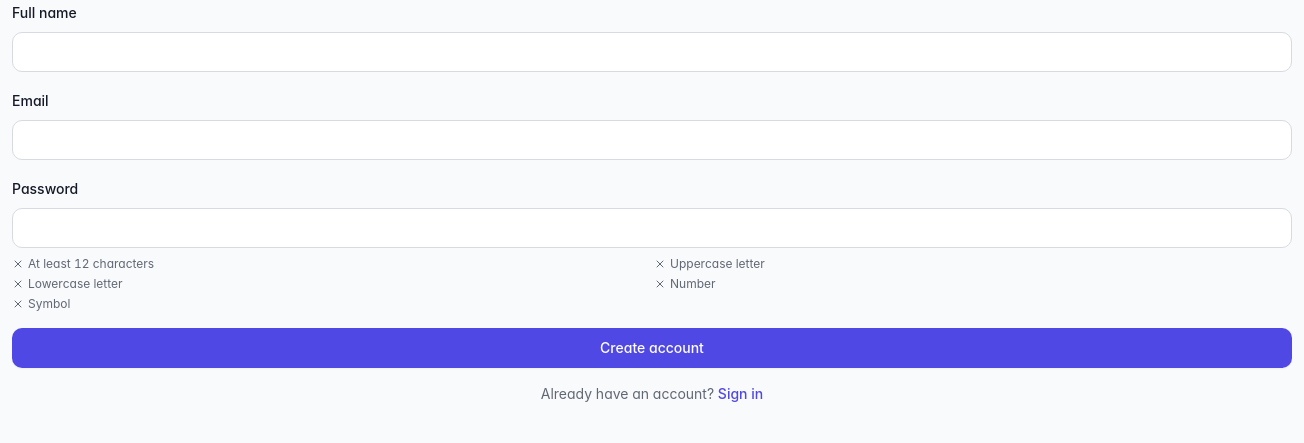
Test: RegisterForm › blocks weak passwords client-side
Type "Asha Rao" into the field labelled "Full name".
click(652, 52); type("Asha Rao")  # box [12,32,1292,72]
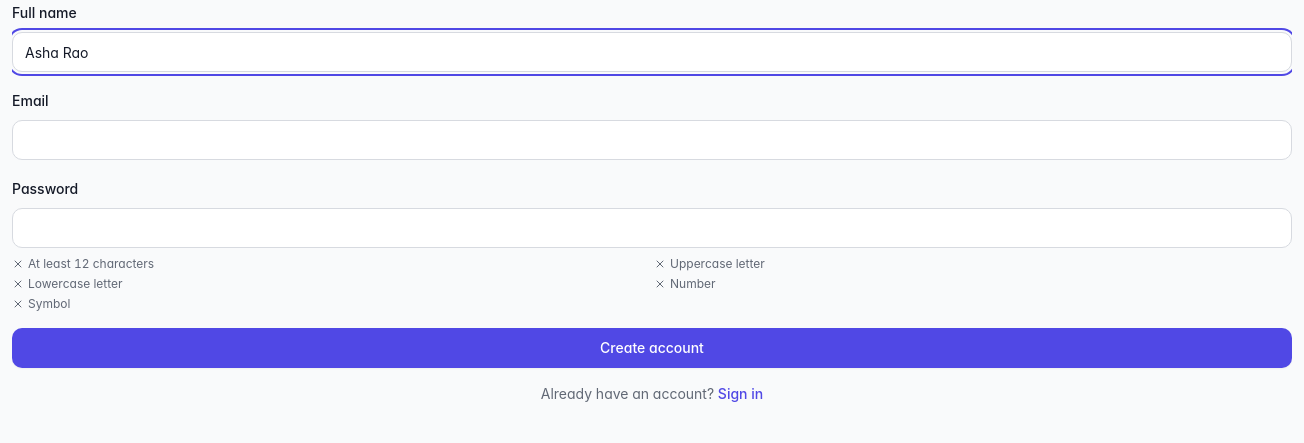
Type "asha@example.com" into the field labelled "Email".
click(652, 140); type("asha@example.com")  # box [12,120,1292,160]
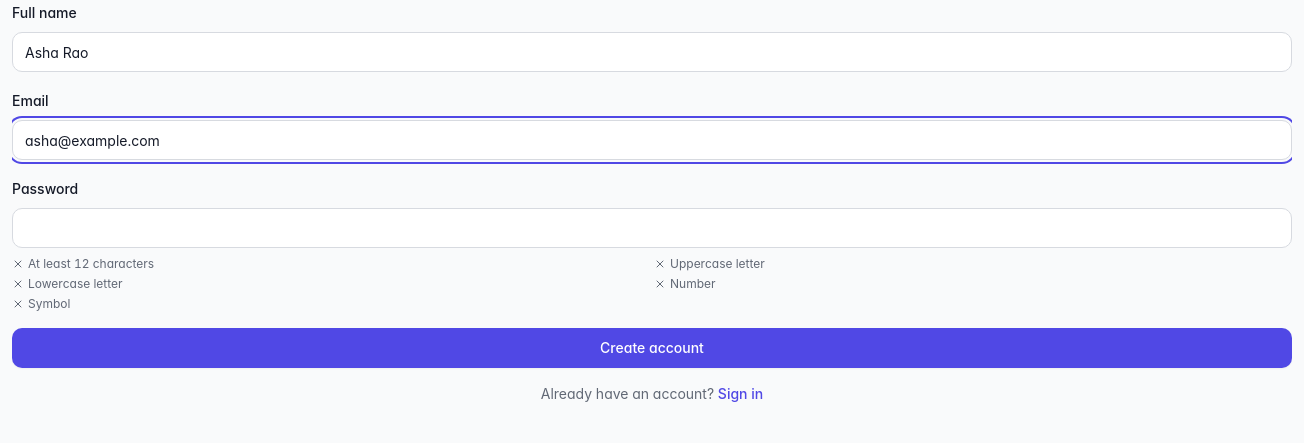
Type "short" into the password field labelled "Password".
click(652, 228); type("short")  # box [12,208,1292,248]
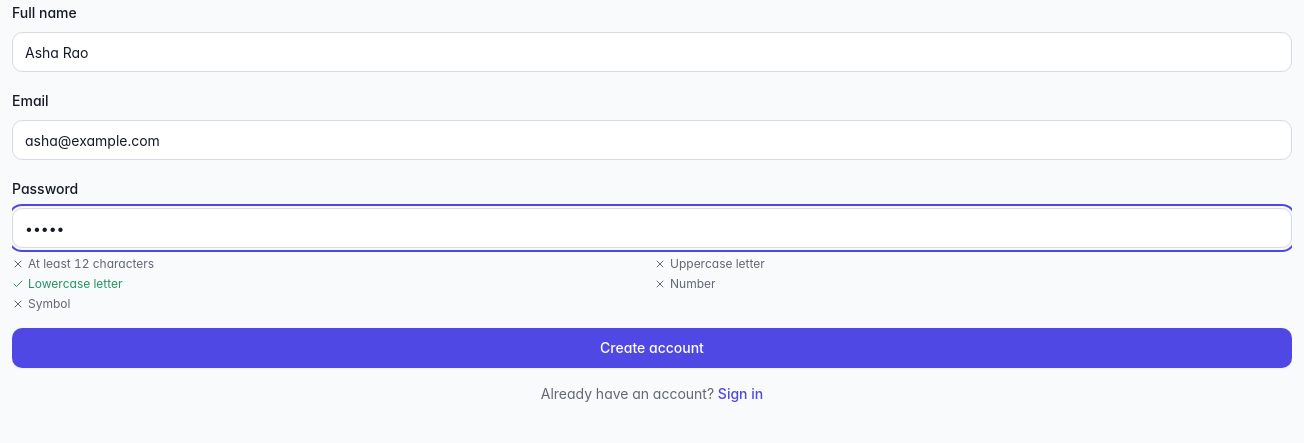
Click the button "Create account".
click(652, 348)  # box [12,328,1292,368]
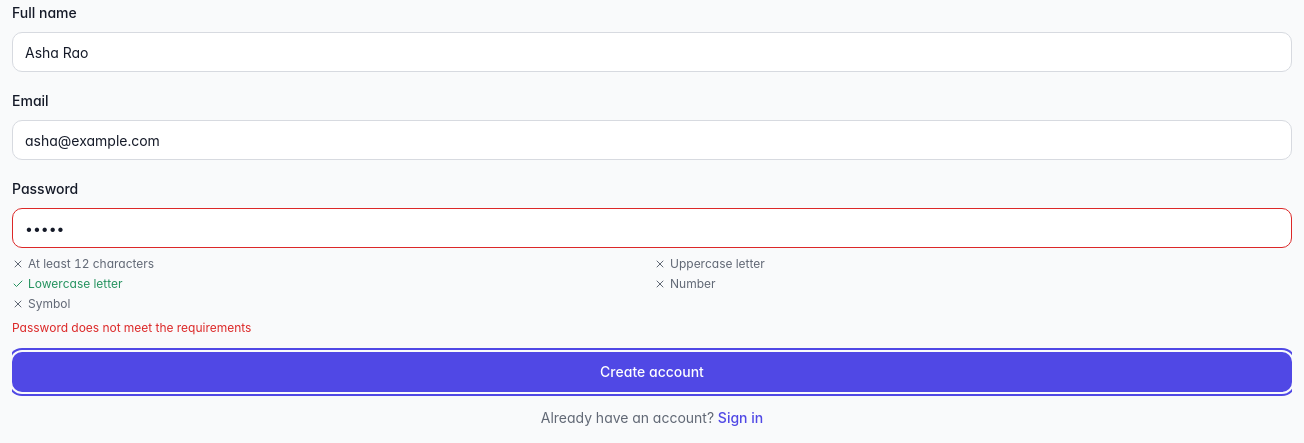
Result: the text "Password does not meet the requirements" is shown at [12,320,252,335]
